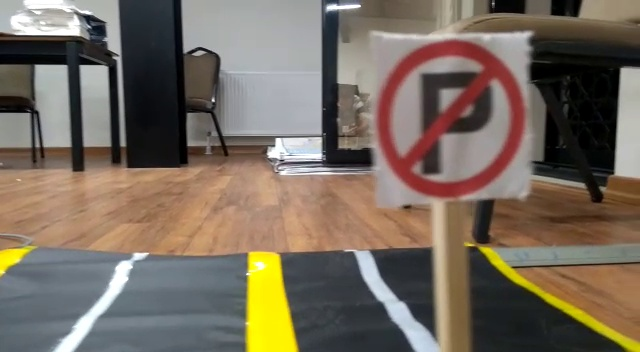park_yapilmaz: (374, 36, 528, 197)
